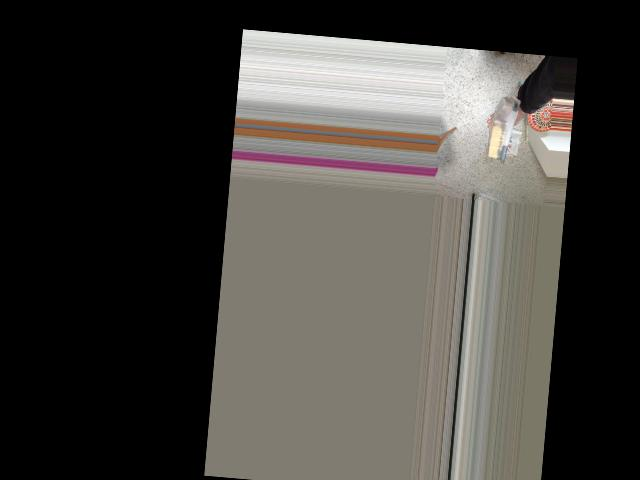cheese: (485, 96, 520, 162)
